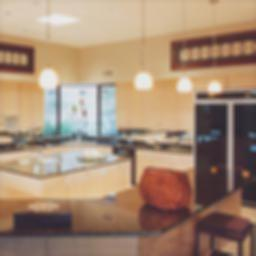Electrodomestico: (195, 90, 253, 163)
